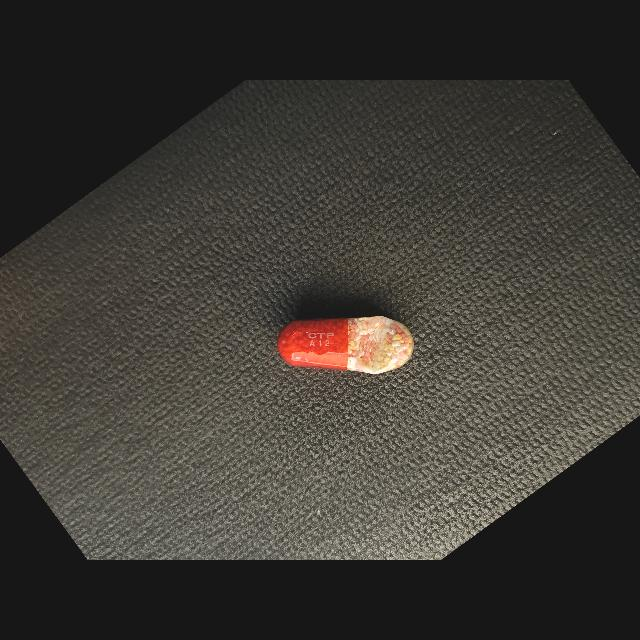Defective Capsule: (277, 316, 414, 375)
